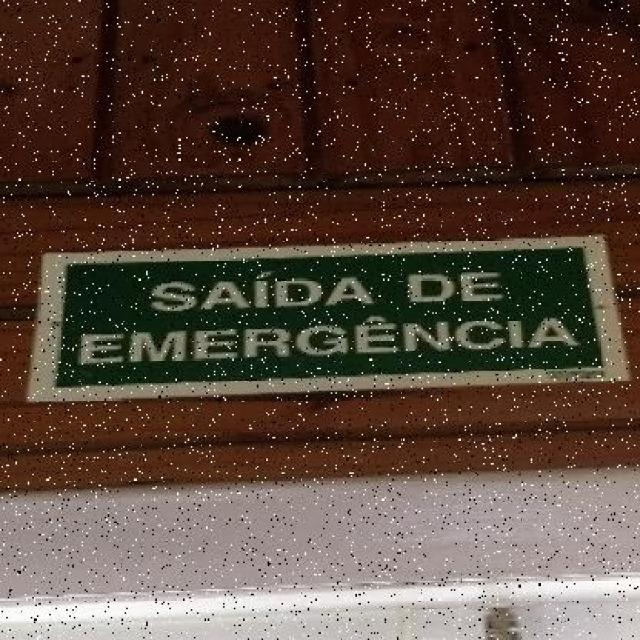emergency_exit: (26, 233, 631, 403)
